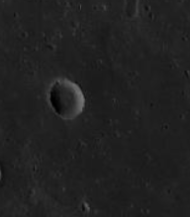crater: (22, 50, 105, 146)
